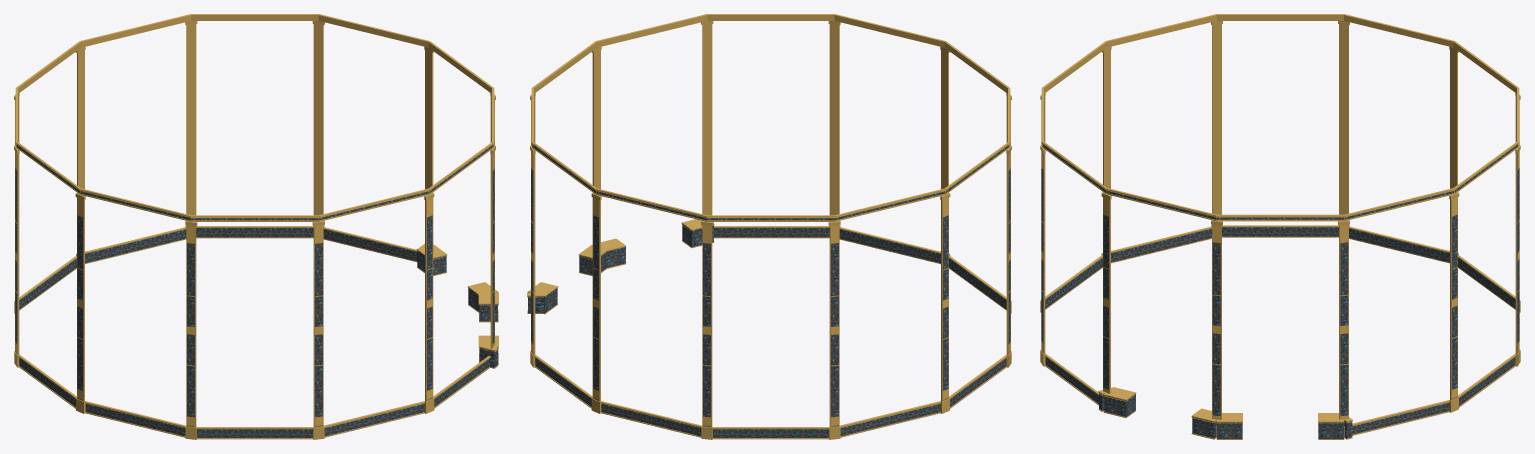
Rendered from trim-guild-hall.glb.
The picture shows the model from 3 angles, left to right: view 1: azimuth 30°, elevation 25°; view 2: azimuth 150°, elevation 25°; view 3: azimuth 270°, elevation 25°; orthographic projection.
Parts seen in each view (by area): view 1: trim-gilt, trim-labradorite, trim-ornament; view 2: trim-gilt, trim-labradorite, trim-ornament; view 3: trim-gilt, trim-labradorite, trim-ornament.
Part boxes in pixels (x1,y1,x2,y2): trim-gilt: (14, 14, 498, 439); trim-labradorite: (15, 145, 498, 437); trim-ornament: (15, 151, 494, 426); trim-gilt: (527, 14, 1011, 439); trim-labradorite: (528, 144, 1010, 437); trim-ornament: (531, 151, 1010, 426); trim-gilt: (1040, 14, 1520, 439); trim-labradorite: (1041, 144, 1519, 438); trim-ornament: (1041, 151, 1519, 424).
Bounding box in the file's own units: 29.67 × 15.06 × 29.49.
Materials: 3 (1 with a texture image).
